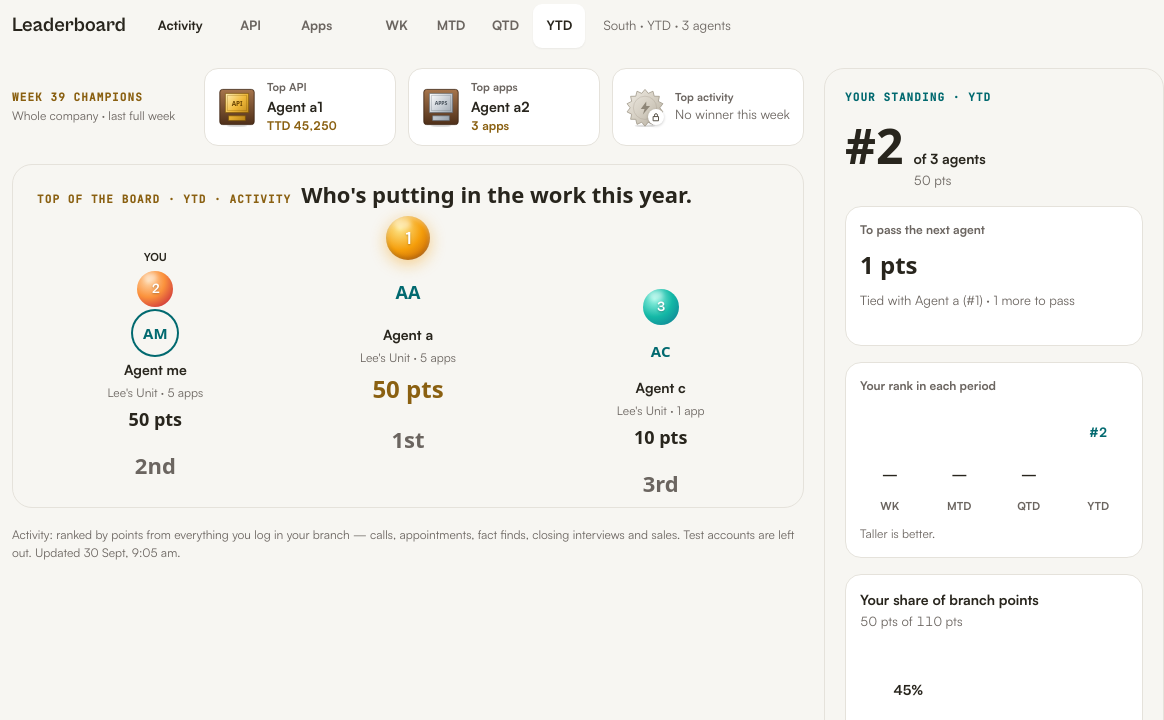
Scenario: FR Leaderboard — "to pass" on a tie (Amendment A2) › apps: one unit of the board, and "Tied with {name} (#{rank}) · 1 more to pass"
Click the radio button with test id "fr-leaderboard-board-apps" at (317, 26), box [285,4,349,48]
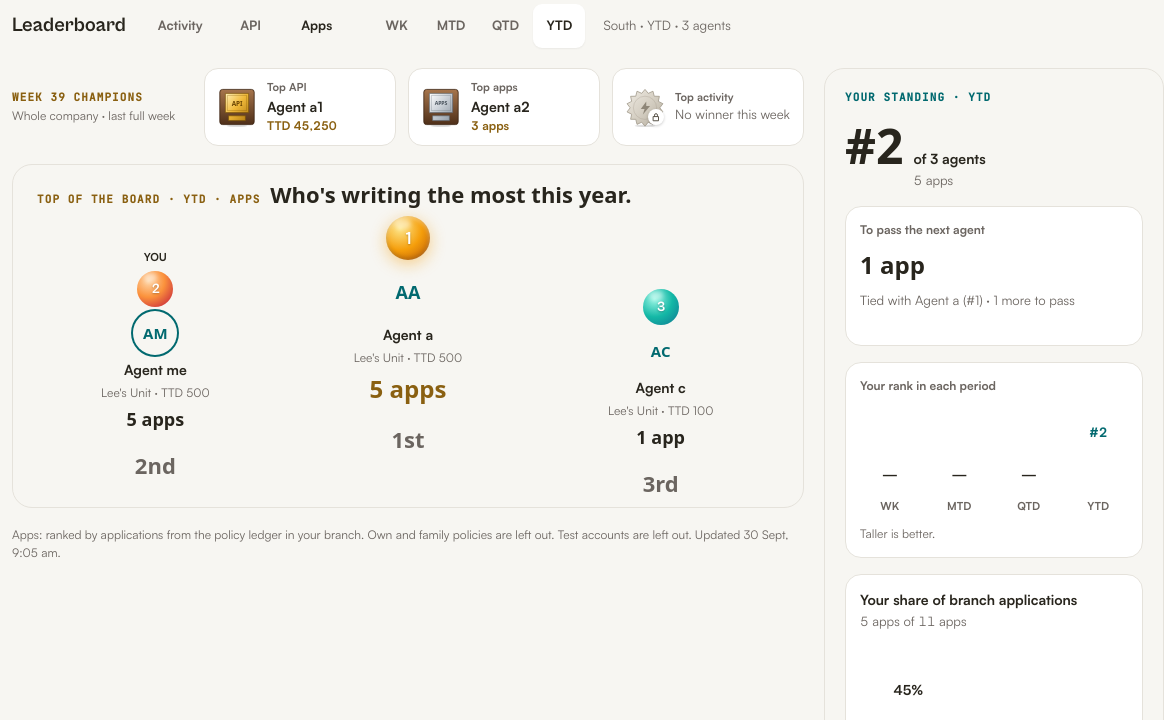
Expected: the text "1 app" below "Lee's Unit · TTD 100" is shown, [636,425,685,449]
